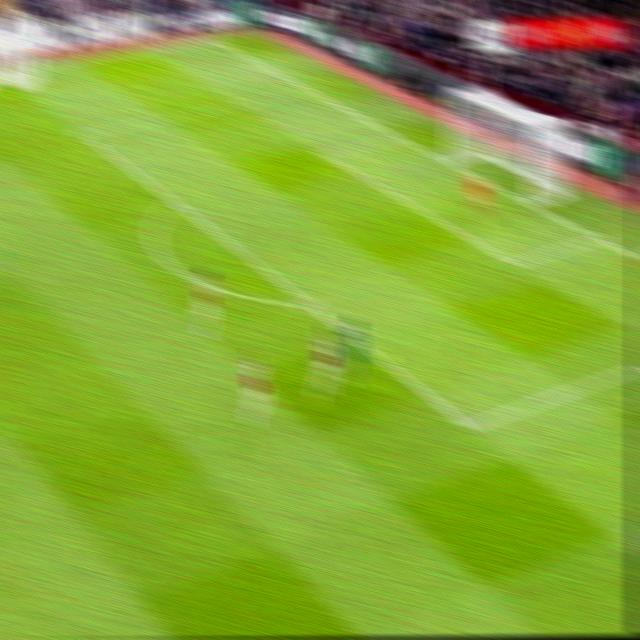bigarea_bottom_inner: (457, 410, 486, 441)
bigarea_top_inner: (72, 121, 99, 145)
bigarea_top_outter: (298, 79, 322, 99)
bottom_arc_area_intersection: (296, 290, 322, 314)
corner: (201, 30, 229, 48)
smallarea_bottom_inner: (502, 247, 530, 277)
smallarea_bottom_outter: (584, 222, 611, 251)
smallarea_top_inner: (316, 142, 340, 165)
smallarea_top_outter: (387, 125, 414, 147)
top_arc_area_intersection: (162, 190, 187, 212)
